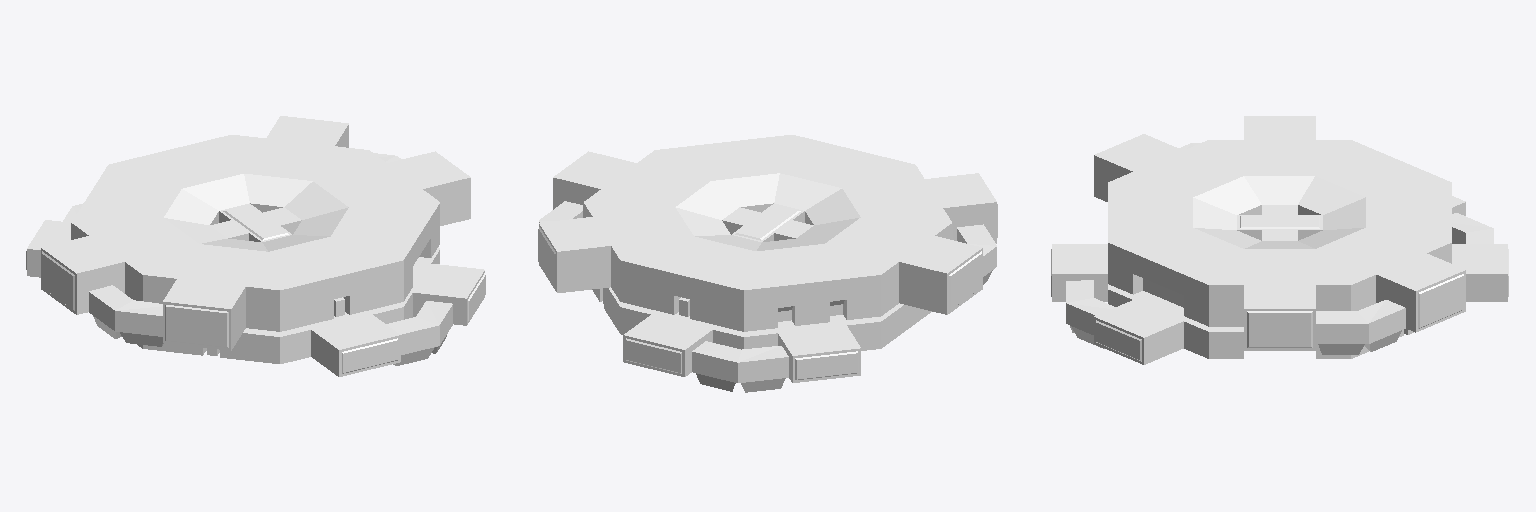
The model's file is carousel.obj.
The picture shows the model from 3 angles: view 1: azimuth 30°, elevation 25°; view 2: azimuth 150°, elevation 25°; view 3: azimuth 270°, elevation 25°; orthographic projection.
Parts seen in each view (by area): view 1: -000, -001, -002, -012, -005, -017, -014, -004, -019; view 2: -000, -001, -011, -005, -015, -014, -016, -006, -012, -004, -013; view 3: -000, -001, -013, -015, -004, -014, -006, -011, -018, -017, -019.
Part boxes in pixels (bbox=[...]): -000: bbox=[41, 116, 470, 316]; -001: bbox=[27, 220, 485, 365]; -002: bbox=[280, 260, 403, 331]; -012: bbox=[89, 285, 163, 346]; -005: bbox=[41, 248, 124, 314]; -017: bbox=[311, 330, 400, 376]; -014: bbox=[210, 203, 301, 241]; -004: bbox=[423, 178, 470, 225]; -019: bbox=[373, 250, 439, 323]; -000: bbox=[539, 135, 996, 350]; -001: bbox=[609, 173, 997, 355]; -011: bbox=[692, 341, 788, 392]; -005: bbox=[899, 248, 982, 314]; -015: bbox=[538, 224, 610, 292]; -014: bbox=[722, 203, 813, 241]; -016: bbox=[778, 334, 860, 382]; -006: bbox=[623, 330, 712, 376]; -012: bbox=[957, 224, 996, 284]; -004: bbox=[553, 178, 600, 209]; -013: bbox=[539, 201, 582, 222]; -000: bbox=[1095, 116, 1464, 358]; -001: bbox=[1052, 155, 1507, 364]; -013: bbox=[1316, 300, 1405, 354]; -015: bbox=[1376, 270, 1465, 332]; -004: bbox=[1244, 309, 1315, 349]; -014: bbox=[1237, 205, 1322, 240]; -006: bbox=[1466, 249, 1508, 301]; -011: bbox=[1452, 213, 1493, 243]; -018: bbox=[1209, 332, 1315, 358]; -017: bbox=[1051, 249, 1107, 301]; -019: bbox=[1108, 290, 1208, 358].
Size of the model in its own units: 81.33 by 17.03 by 81.33.